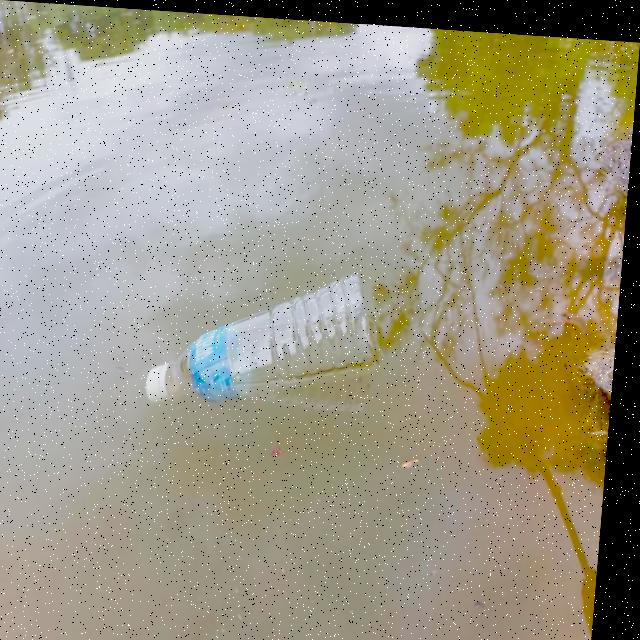waterbottle: (141, 252, 387, 433)
